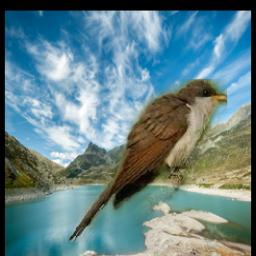Cuckoo: (67, 80, 227, 243)
